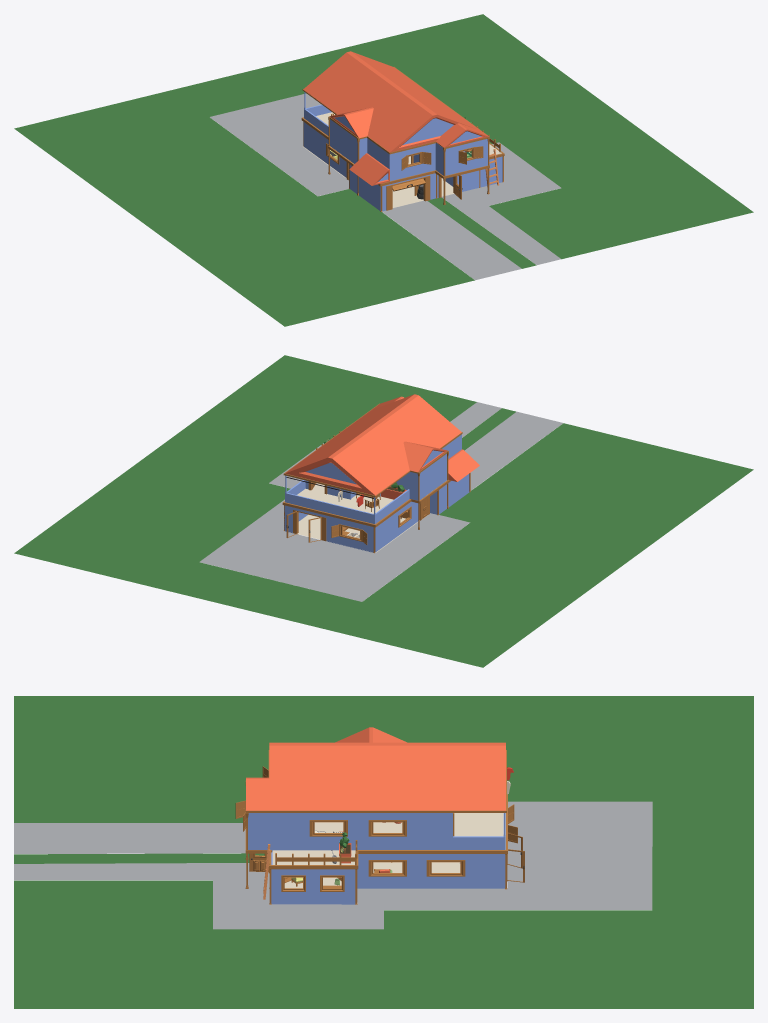
File: WholeSceneEnviro.fbx
3 renders of one model, top to bottom at view 1: azimuth 30°, elevation 25°; view 2: azimuth 150°, elevation 25°; view 3: azimuth 270°, elevation 25°, orthographic. The views are drawn at different scales.
Parts seen in each view (by area): view 1: Grass, Cement, Roof, DrivewayCemeent, Wall19, Wall24, Wall25, Wall17, Roof4, Roof5, Wall7, Roof3 (+3 smaller); view 2: Grass, Cement, Roof (×2), DrivewayCemeent, Balcony_Railing, Wall18, Wall17, Wall7, Roof5, Wall, Roof4, Roof1 (+1 smaller); view 3: Grass, Cement, Roof (×2), DrivewayCemeent, Wall23, Wall16, Wall15, Roof3, Roof1, WoodInterior, Balcony_Railing, Roof5 (+1 smaller).
Part boxes in pixels (x1,y1,x2,y2): Grass: (14, 14, 753, 326); Cement: (210, 93, 561, 264); Roof: (303, 51, 476, 152); DrivewayCemeent: (382, 200, 521, 280); Wall19: (382, 156, 502, 211); Wall24: (443, 139, 487, 175); Wall25: (391, 143, 435, 180); Wall17: (303, 122, 346, 177); Roof4: (349, 153, 389, 185); Roof5: (329, 107, 373, 138); Wall7: (330, 119, 357, 163); Roof3: (436, 118, 488, 147); Grass: (14, 355, 753, 667); Cement: (199, 402, 501, 601); Roof (×2): (285, 394, 461, 513); DrivewayCemeent: (464, 411, 563, 490); Balcony_Railing: (285, 475, 409, 524); Wall18: (285, 505, 373, 552); Wall17: (375, 501, 418, 552); Wall7: (417, 454, 446, 500); Roof5: (403, 441, 447, 472); Wall: (439, 474, 469, 514); Roof4: (448, 449, 479, 481); Roof1: (283, 403, 462, 497); Grass: (14, 696, 753, 1008); Cement: (14, 801, 652, 929); Roof (×2): (269, 742, 505, 864); DrivewayCemeent: (14, 823, 245, 853); Wall23: (248, 813, 450, 851); Wall16: (357, 854, 505, 888); Wall15: (271, 869, 355, 904); Roof3: (246, 777, 313, 810); Roof1: (246, 750, 506, 812); WoodInterior: (284, 862, 460, 888); Balcony_Railing: (453, 813, 505, 849); Roof5: (335, 727, 406, 742).
Bounding box in the file's own units: 6973 × 1214 × 6973.
